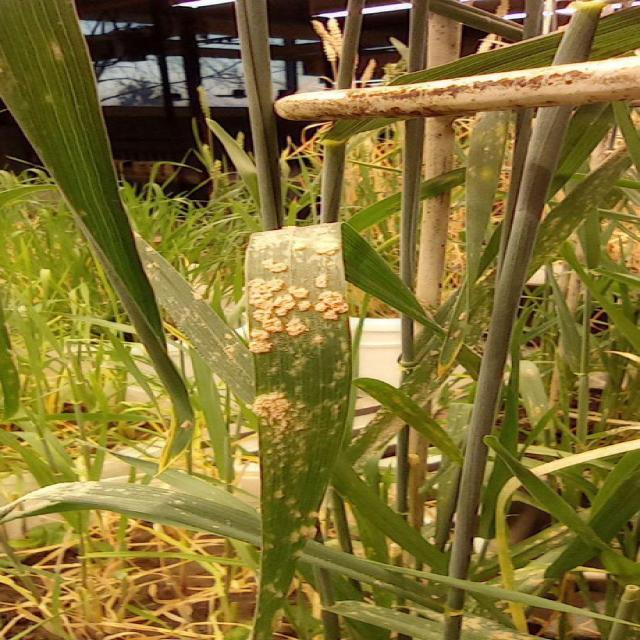wheat-powdery-mildew: (246, 222, 353, 640)
